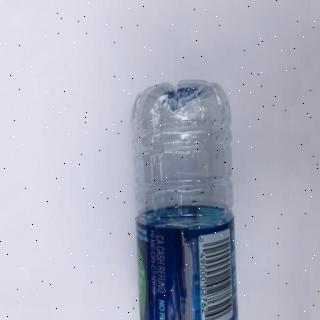Plastic-bottle: (130, 78, 241, 320)
